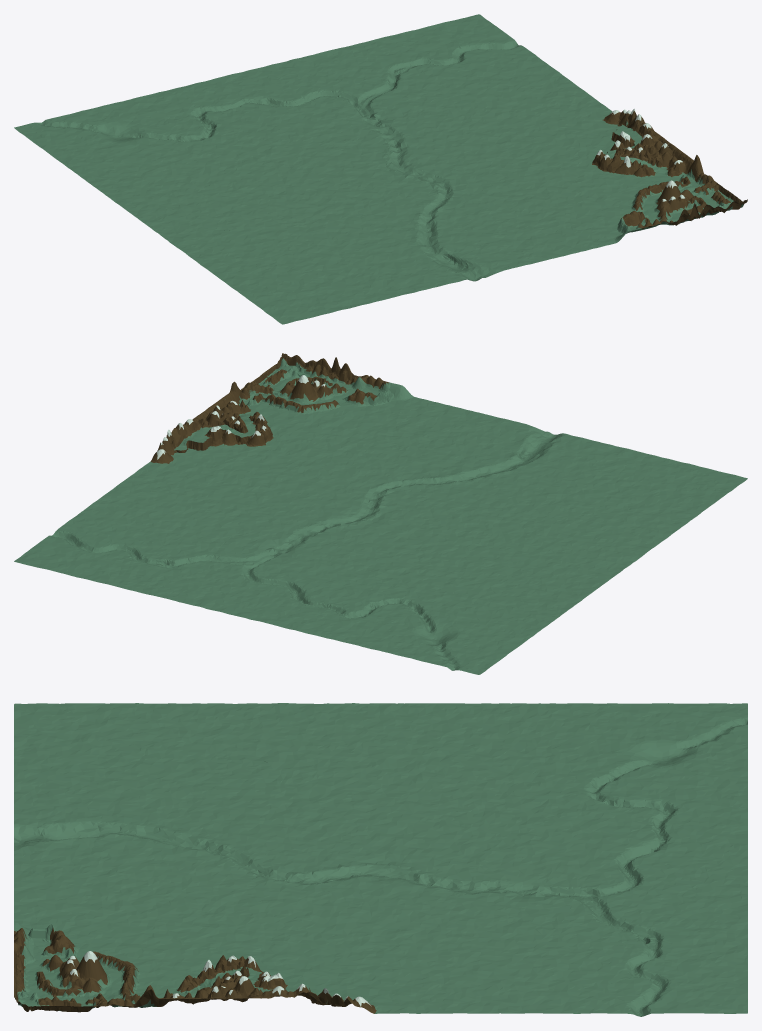
File: Terrain2.fbx
3 views of the same model, one above another, from view 1: azimuth 30°, elevation 25°; view 2: azimuth 150°, elevation 25°; view 3: azimuth 270°, elevation 25° (orthographic). The views are drawn at different scales.
Visible parts, largest first — view 1: Plane.001; view 2: Plane.001; view 3: Plane.001.
Boxes of the visible parts, bbox=[...] form: Plane.001: bbox=[14, 14, 747, 324]; Plane.001: bbox=[14, 353, 747, 674]; Plane.001: bbox=[14, 703, 747, 1016].
Size of the model in its own units: 541 by 31.13 by 542.
